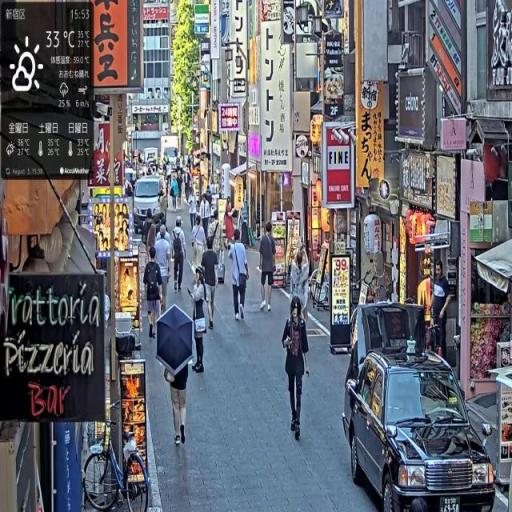person: (283, 298, 310, 441), (260, 223, 294, 312), (433, 261, 452, 359), (190, 267, 207, 374), (145, 248, 164, 340), (231, 231, 250, 321), (202, 237, 219, 331), (171, 365, 189, 447), (156, 227, 173, 312), (291, 249, 310, 324), (173, 218, 187, 292), (209, 211, 224, 263), (193, 216, 207, 269), (143, 209, 156, 251), (225, 198, 235, 250), (201, 195, 212, 234), (189, 191, 198, 231), (147, 224, 157, 256), (172, 176, 180, 213)
